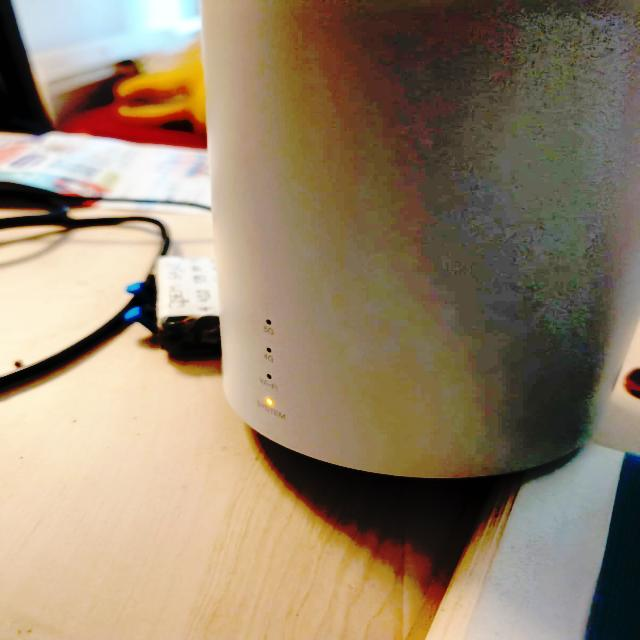modem: (204, 0, 640, 482)
off: (254, 314, 282, 333), (256, 368, 282, 387), (262, 342, 280, 358)
orange: (260, 393, 284, 412)
